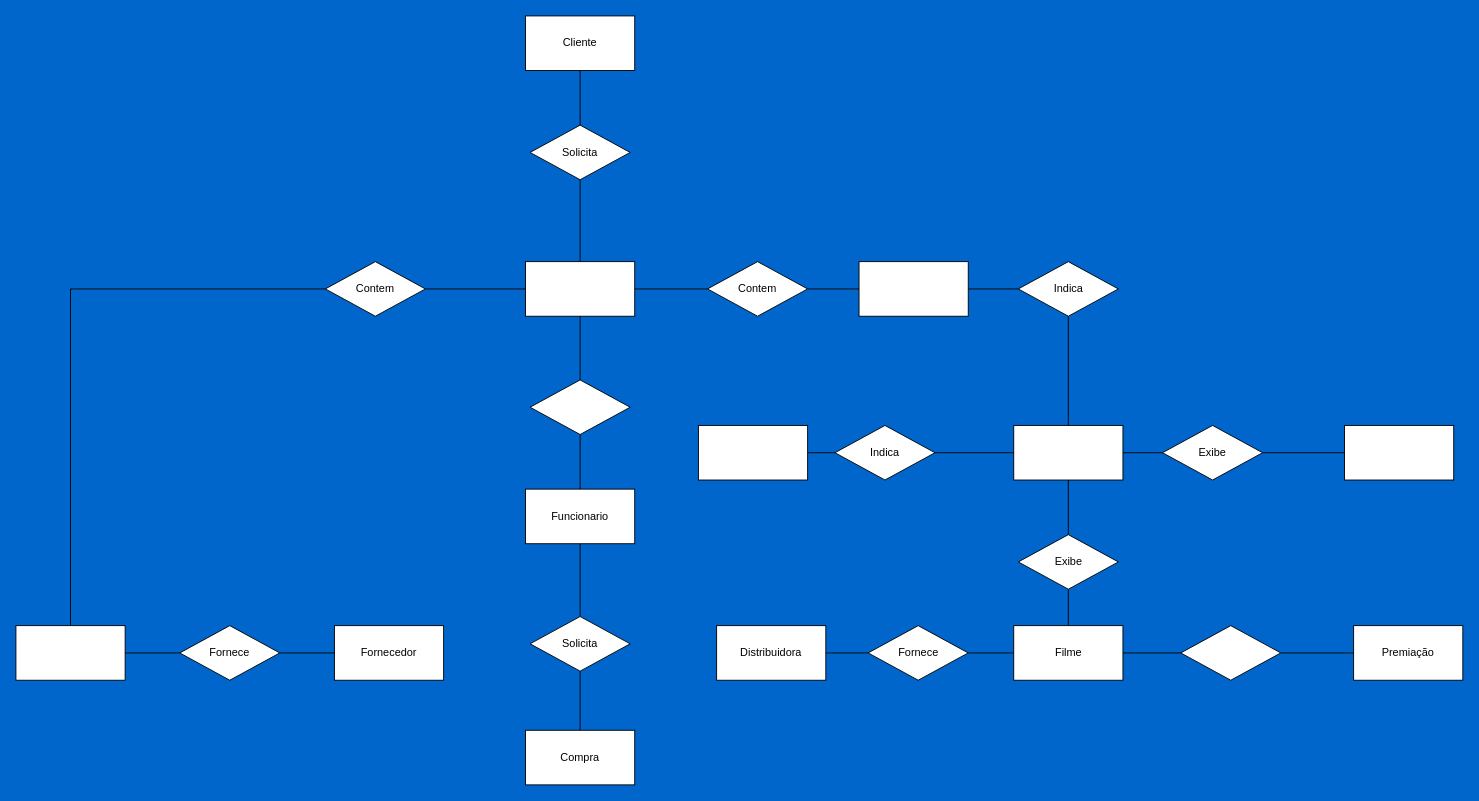
The diagram is 1479 pixels wide and 801 high, and some of its shapes have lost their labels. Each missing label, with the centre of its shape:
"Ingresso" belongs at pixel 913 288.
"Possui" belongs at pixel 1230 652.
"Propaganda" belongs at pixel 1399 452.
"Realiza" belongs at pixel 579 407.
"Sala" belongs at pixel 753 452.
"Sessão" belongs at pixel 1068 452.
"Snack_Bar" belongs at pixel 70 652.
"Venda" belongs at pixel 580 288.
